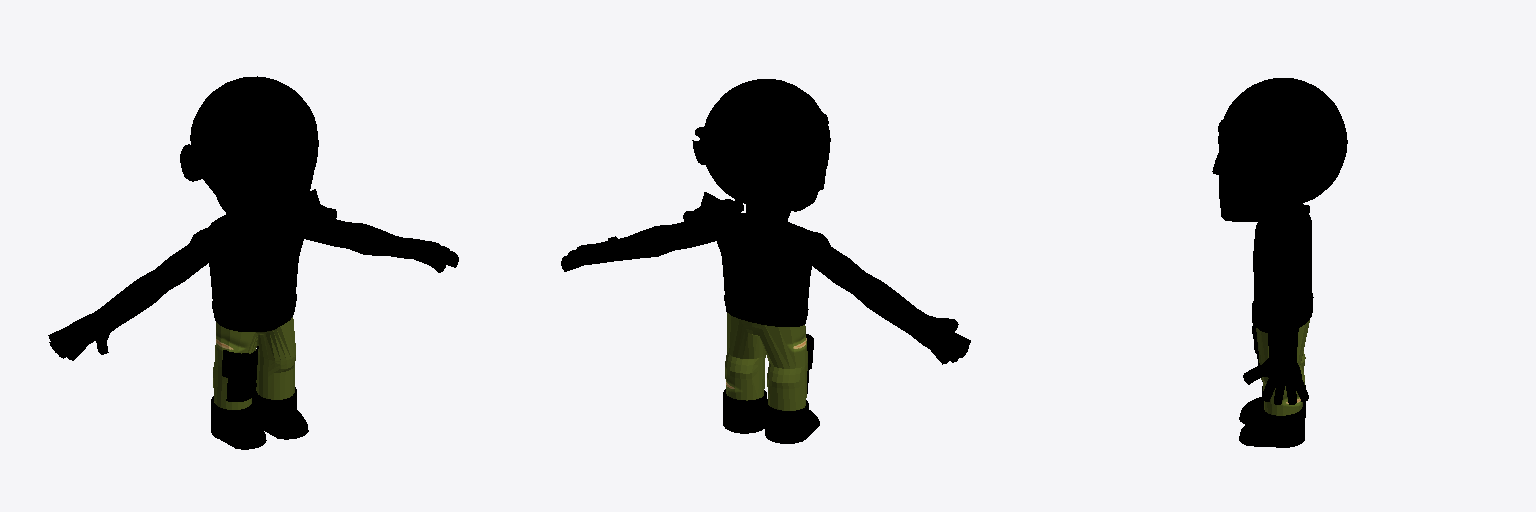
3 views of the same model, side by side, from view 1: azimuth 30°, elevation 25°; view 2: azimuth 150°, elevation 25°; view 3: azimuth 270°, elevation 25° (orthographic).
Visible parts, largest first — view 1: polySurface7, polySurface5, polySurface3, polySurface2, pCube6, polySurface6, pCylinder2; view 2: polySurface7, polySurface5, polySurface3, pCylinder2, polySurface2, polySurface6; view 3: polySurface7, pCylinder2, polySurface2, polySurface5.
Boxes of the visible parts, box(x1,y1,x2,y2) form: polySurface7: box(48, 76, 458, 360); polySurface5: box(213, 317, 295, 409); polySurface3: box(211, 396, 266, 449); polySurface2: box(253, 387, 308, 439); pCube6: box(222, 346, 258, 401); polySurface6: box(212, 294, 296, 331); pCylinder2: box(300, 189, 336, 233); polySurface7: box(561, 79, 970, 364); polySurface5: box(725, 313, 807, 410); polySurface3: box(765, 399, 819, 443); pCylinder2: box(683, 192, 743, 236); polySurface2: box(723, 389, 766, 433); polySurface6: box(724, 295, 808, 326); polySurface7: box(1212, 78, 1347, 404); pCylinder2: box(1257, 219, 1309, 273); polySurface2: box(1239, 403, 1304, 447); polySurface5: box(1256, 320, 1309, 415).
Size of the model in its own units: 8.66 by 7.16 by 2.55.
Materials: 3 (1 with a texture image).